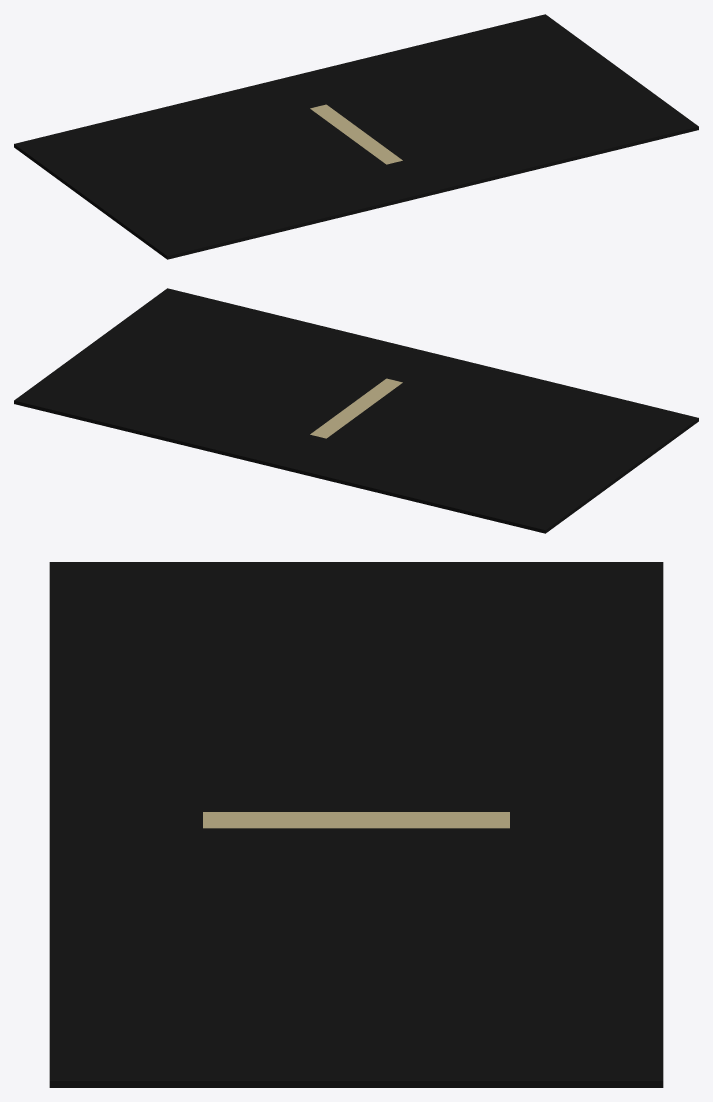
File: tile_road.fbx
The picture shows the model from 3 angles, top to bottom: view 1: azimuth 30°, elevation 25°; view 2: azimuth 150°, elevation 25°; view 3: azimuth 270°, elevation 25°; orthographic projection. The views are drawn at different scales.
Visible parts, largest first — view 1: tile_road; view 2: tile_road; view 3: tile_road.
Part boxes in pixels (x1,y1,x2,y2): tile_road: (14, 14, 698, 259); tile_road: (14, 288, 698, 533); tile_road: (49, 562, 663, 1087).
Size of the model in its own units: 8 by 0.06 by 4.
